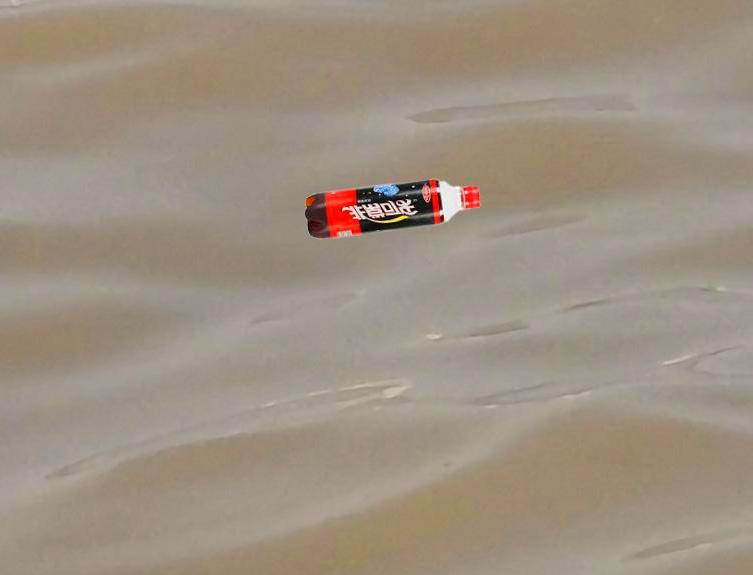Plastic: (304, 175, 481, 239)
